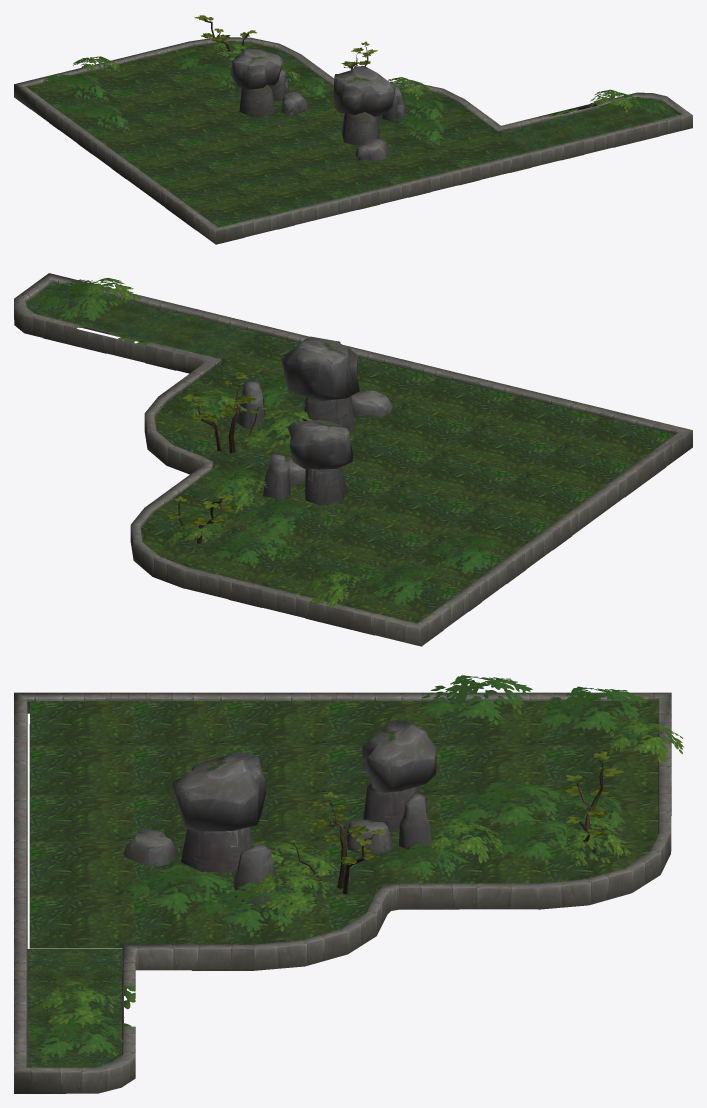
The model's file is cj_luoyang_huatan02_55_37_5436out.fbx.
3 renders of one model, top to bottom at view 1: azimuth 30°, elevation 25°; view 2: azimuth 150°, elevation 25°; view 3: azimuth 270°, elevation 25°, orthographic. The views are drawn at different scales.
Visible parts, largest first — view 1: cj_luoyang_huatan02; view 2: cj_luoyang_huatan02; view 3: cj_luoyang_huatan02.
Boxes of the visible parts, bbox=[...] form: cj_luoyang_huatan02: bbox=[14, 15, 692, 244]; cj_luoyang_huatan02: bbox=[14, 273, 692, 646]; cj_luoyang_huatan02: bbox=[14, 675, 683, 1093].
Bounding box in the file's own units: 16.57 × 2.47 × 12.48.
